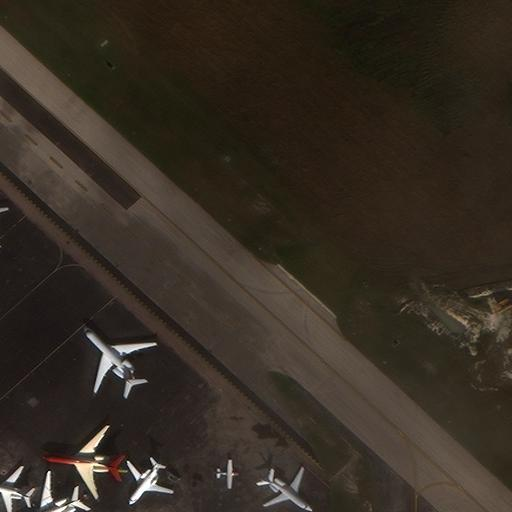Medium Civil Transport: (41, 425, 127, 499), (84, 325, 156, 392), (23, 471, 81, 512), (262, 467, 312, 512), (126, 462, 172, 505), (0, 466, 31, 512)
Small Civil Transport: (215, 459, 239, 488)
